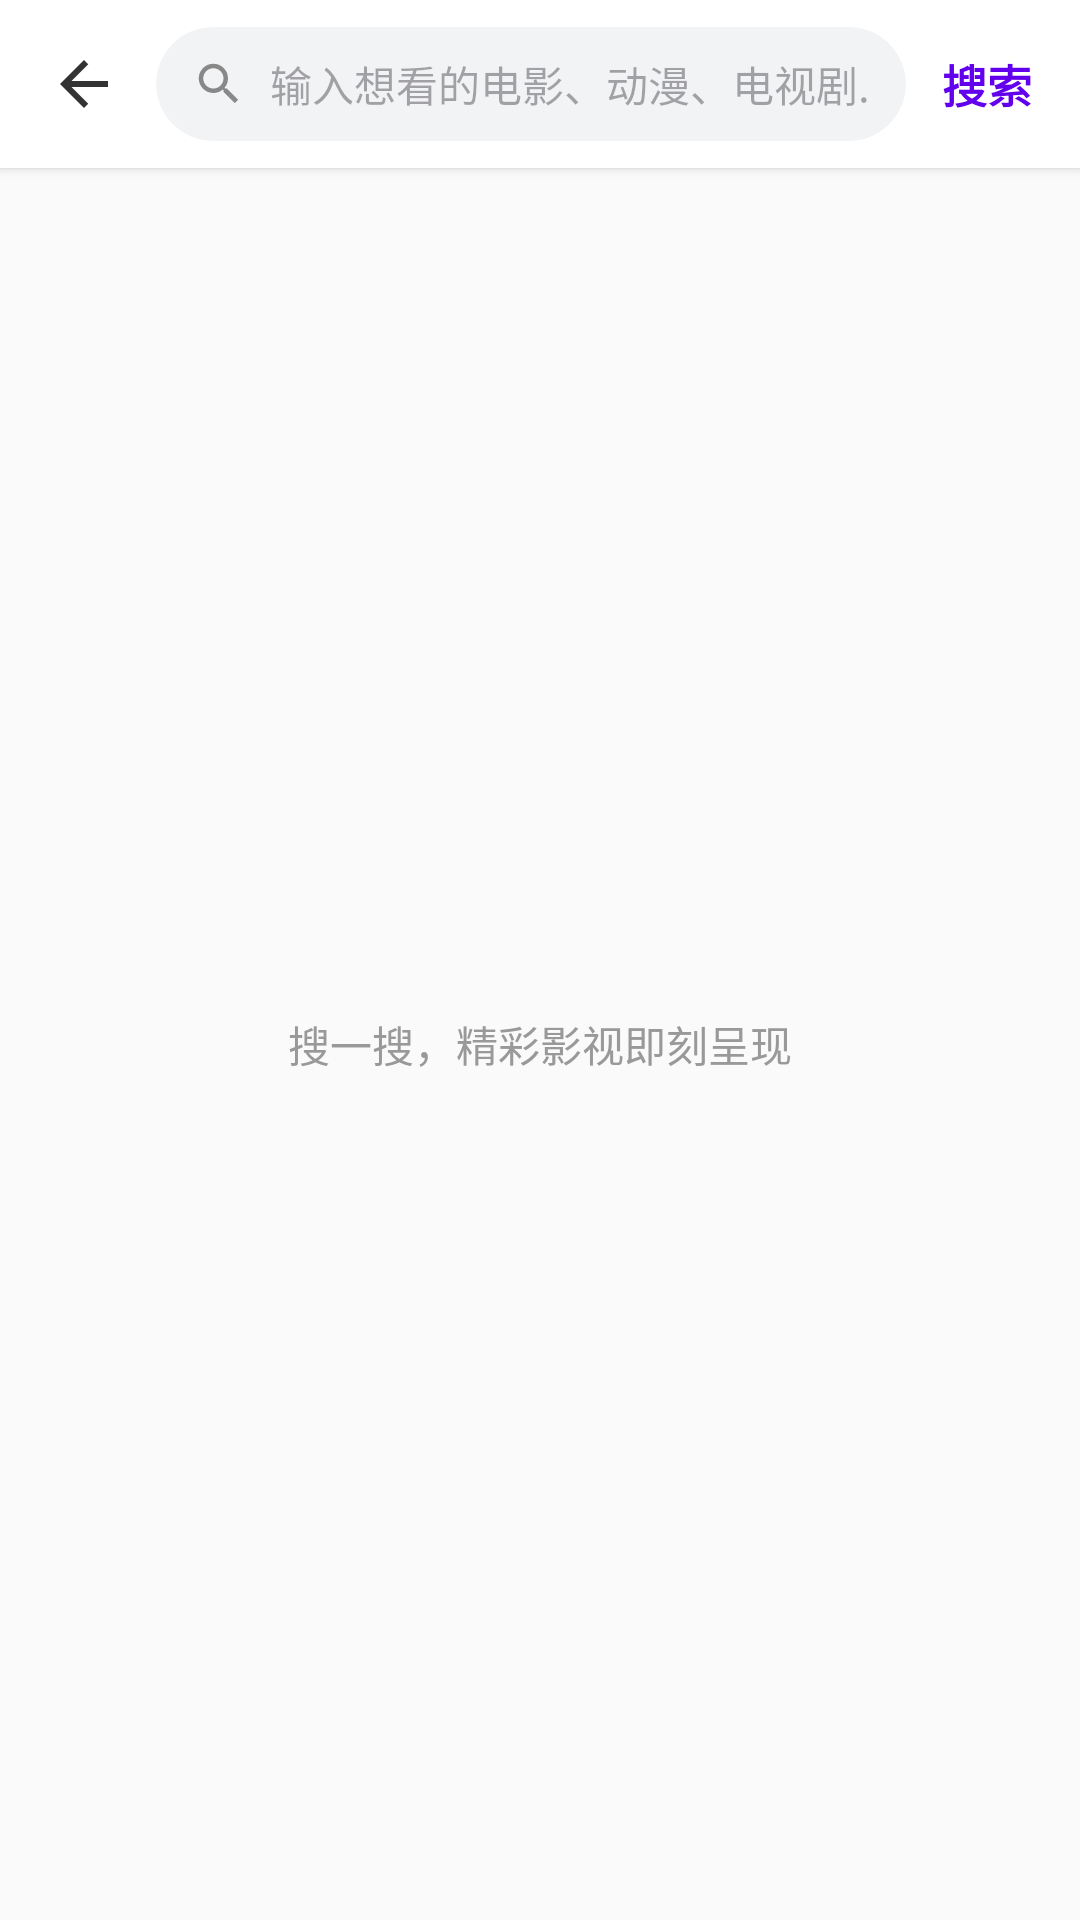

Where icons sit on this 1080*1920 app screen, as (x1, y1, x2, y2):
Back: (60, 60, 108, 108)
search: (198, 63, 238, 103)
